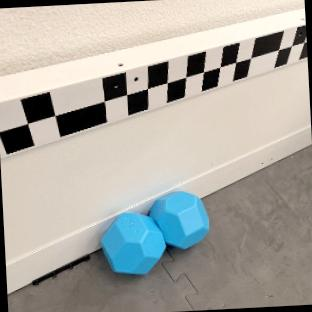V5_BLUE: (99, 190, 209, 275)
